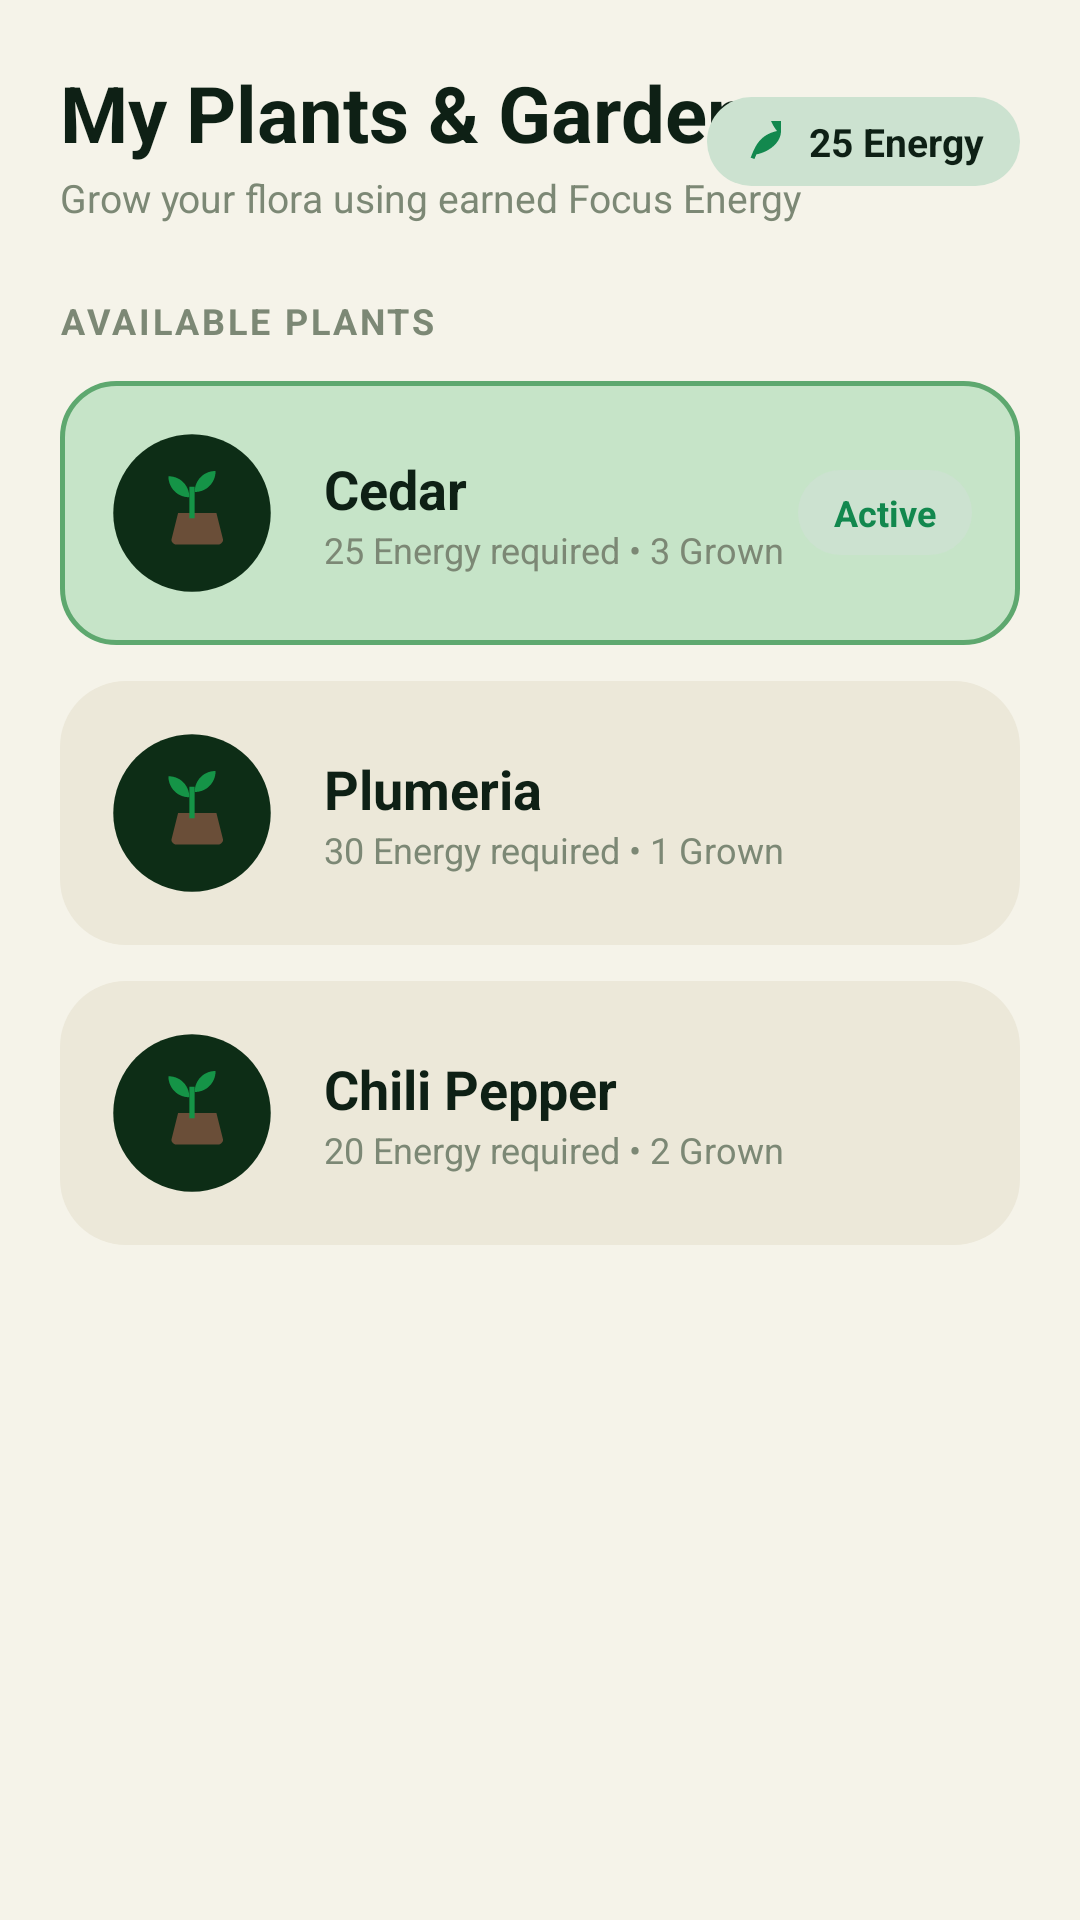

Icon bounding boxes for this 1080px x 1920px phone screenshot, format {"left": x1, "top": y1, "right": x2, "bottom": y2}:
leaf: {"left": 750, "top": 121, "right": 781, "bottom": 159}
plant hero: {"left": 113, "top": 434, "right": 271, "bottom": 592}, {"left": 113, "top": 734, "right": 271, "bottom": 892}, {"left": 113, "top": 1034, "right": 271, "bottom": 1192}
